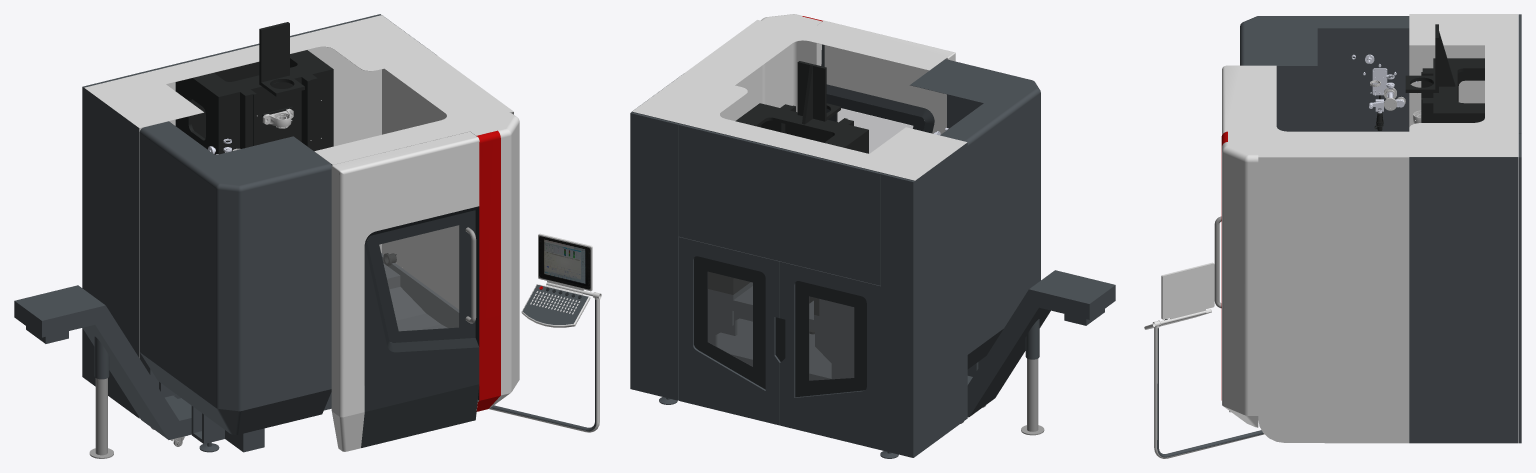
Rendered from machine.glb.
3 views of the same model, side by side, from view 1: azimuth 30°, elevation 25°; view 2: azimuth 150°, elevation 25°; view 3: azimuth 270°, elevation 25° (orthographic). The views are drawn at different scales.
Parts seen in each view (by area): view 1: CNC_Machine_with_Doors_mesh76_192, CNC_Machine_with_Doors_mesh106_184, CNC_Machine_with_Doors_mesh72_176, CNC_Machine_with_Doors_mesh103_232, CNC_Machine_with_Doors_mesh179_180, CNC_Machine_with_Doors_mesh83_202, CNC_Machine_with_Doors_mesh78_196, CNC_Machine_with_Doors_mesh88_206, CNC_Machine_with_Doors_mesh135_336, CNC_Machine_with_Doors_mesh77_198, CNC_Machine_with_Doors_mesh110_178, CNC_Machine_with_Doors_mesh100_230 (+2 smaller); view 2: CNC_Machine_with_Doors_mesh132_272, CNC_Machine_with_Doors_mesh106_184, CNC_Machine_with_Doors_mesh76_192, CNC_Machine_with_Doors_mesh101_194, CNC_Machine_with_Doors_mesh85_204, CNC_Machine_with_Doors_mesh179_180, CNC_Machine_with_Doors_mesh103_232, CNC_Machine_with_Doors_mesh100_230, CNC_Machine_with_Doors_mesh72_176, CNC_Machine_with_Doors_mesh77_198, CNC_Machine_with_Doors_mesh78_196, CNC_Machine_with_Doors_mesh110_178 (+1 smaller); view 3: CNC_Machine_with_Doors_mesh106_184, CNC_Machine_with_Doors_mesh74_188, CNC_Machine_with_Doors_mesh76_192, CNC_Machine_with_Doors_mesh88_206, CNC_Machine_with_Doors_mesh103_232, CNC_Machine_with_Doors_mesh101_194, CNC_Machine_with_Doors_mesh72_176, CNC_Machine_with_Doors_mesh110_178, CNC_Machine_with_Doors_mesh132_272.
Part boxes in pixels (left/top/right/bottom): CNC_Machine_with_Doors_mesh76_192: left=139, top=121, right=331, bottom=434; CNC_Machine_with_Doors_mesh106_184: left=84, top=15, right=519, bottom=418; CNC_Machine_with_Doors_mesh72_176: left=331, top=131, right=479, bottom=451; CNC_Machine_with_Doors_mesh103_232: left=175, top=22, right=333, bottom=165; CNC_Machine_with_Doors_mesh179_180: left=14, top=285, right=191, bottom=439; CNC_Machine_with_Doors_mesh83_202: left=364, top=244, right=479, bottom=411; CNC_Machine_with_Doors_mesh78_196: left=379, top=225, right=458, bottom=330; CNC_Machine_with_Doors_mesh88_206: left=489, top=233, right=601, bottom=432; CNC_Machine_with_Doors_mesh135_336: left=477, top=130, right=500, bottom=400; CNC_Machine_with_Doors_mesh77_198: left=353, top=192, right=479, bottom=449; CNC_Machine_with_Doors_mesh110_178: left=367, top=210, right=476, bottom=342; CNC_Machine_with_Doors_mesh100_230: left=139, top=253, right=459, bottom=452; CNC_Machine_with_Doors_mesh132_272: left=678, top=124, right=881, bottom=449; CNC_Machine_with_Doors_mesh106_184: left=632, top=14, right=967, bottom=456; CNC_Machine_with_Doors_mesh76_192: left=910, top=59, right=1040, bottom=369; CNC_Machine_with_Doors_mesh101_194: left=630, top=112, right=678, bottom=400; CNC_Machine_with_Doors_mesh85_204: left=881, top=173, right=914, bottom=457; CNC_Machine_with_Doors_mesh179_180: left=967, top=270, right=1115, bottom=417; CNC_Machine_with_Doors_mesh103_232: left=708, top=61, right=868, bottom=315; CNC_Machine_with_Doors_mesh100_230: left=708, top=282, right=985, bottom=380; CNC_Machine_with_Doors_mesh72_176: left=816, top=20, right=955, bottom=133; CNC_Machine_with_Doors_mesh77_198: left=826, top=71, right=941, bottom=134; CNC_Machine_with_Doors_mesh78_196: left=837, top=108, right=912, bottom=153; CNC_Machine_with_Doors_mesh110_178: left=826, top=94, right=924, bottom=131; CNC_Machine_with_Doors_mesh106_184: left=1222, top=14, right=1518, bottom=443; CNC_Machine_with_Doors_mesh74_188: left=1409, top=157, right=1518, bottom=443; CNC_Machine_with_Doors_mesh76_192: left=1240, top=16, right=1409, bottom=131; CNC_Machine_with_Doors_mesh88_206: left=1144, top=262, right=1264, bottom=458; CNC_Machine_with_Doors_mesh103_232: left=1405, top=24, right=1484, bottom=122; CNC_Machine_with_Doors_mesh101_194: left=1518, top=133, right=1521, bottom=443; CNC_Machine_with_Doors_mesh72_176: left=1222, top=65, right=1239, bottom=134; CNC_Machine_with_Doors_mesh110_178: left=1214, top=216, right=1221, bottom=308; CNC_Machine_with_Doors_mesh132_272: left=1518, top=30, right=1521, bottom=133.
Size of the model in its own units: 4.33 by 3.21 by 3.12.
12 materials, 1 textured.
